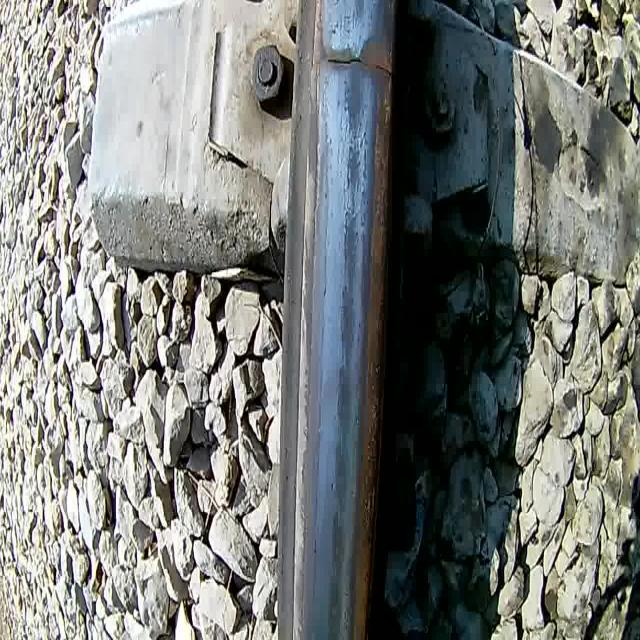Cracks: (355, 72, 370, 201), (342, 67, 354, 139), (342, 190, 351, 279), (338, 286, 346, 366), (351, 225, 362, 277), (344, 143, 353, 190), (336, 421, 344, 458), (350, 188, 356, 208), (336, 383, 340, 411)
Joint: (304, 39, 399, 90)
Squats: (339, 199, 363, 282), (334, 360, 359, 439), (341, 66, 366, 140), (329, 436, 352, 512), (337, 281, 359, 360), (325, 509, 349, 575), (325, 572, 348, 640), (343, 138, 364, 202), (342, 0, 370, 32)
